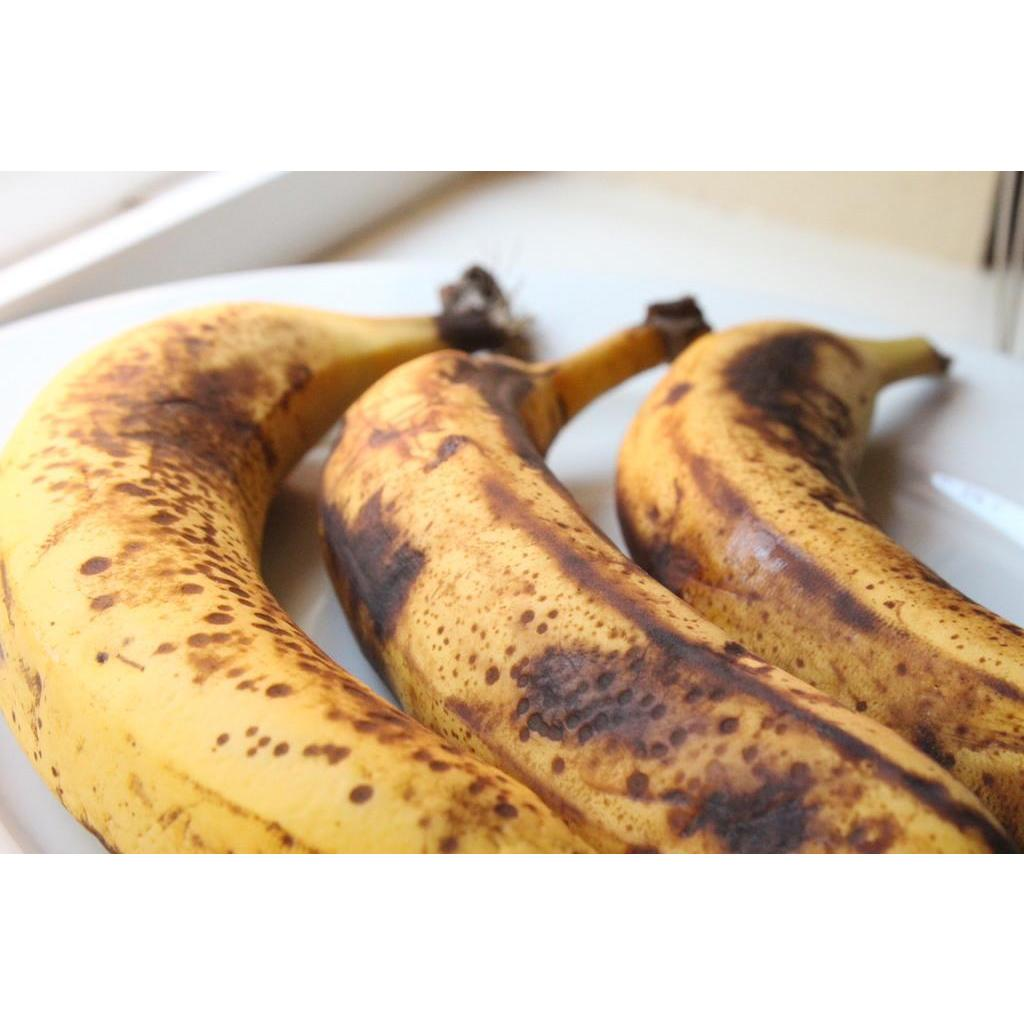banana: (318, 349, 1019, 853), (0, 302, 562, 853), (612, 320, 1024, 851)
